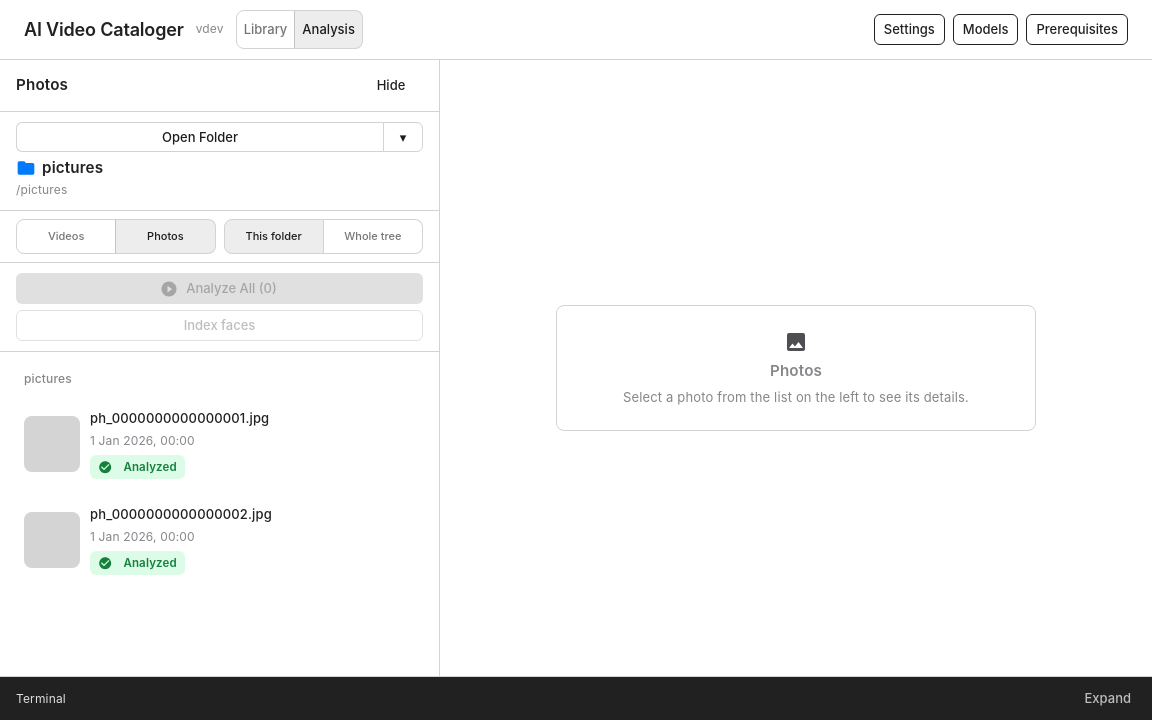
it: selecting a photo from the Analysis photos sidebar › selects the photo in the workspace without opening the full-screen viewer
Click the button with test id "photos-sidebar-row" that starts with "ph_0000000000000001.jpg" at [147, 444], box [24, 410, 269, 479]
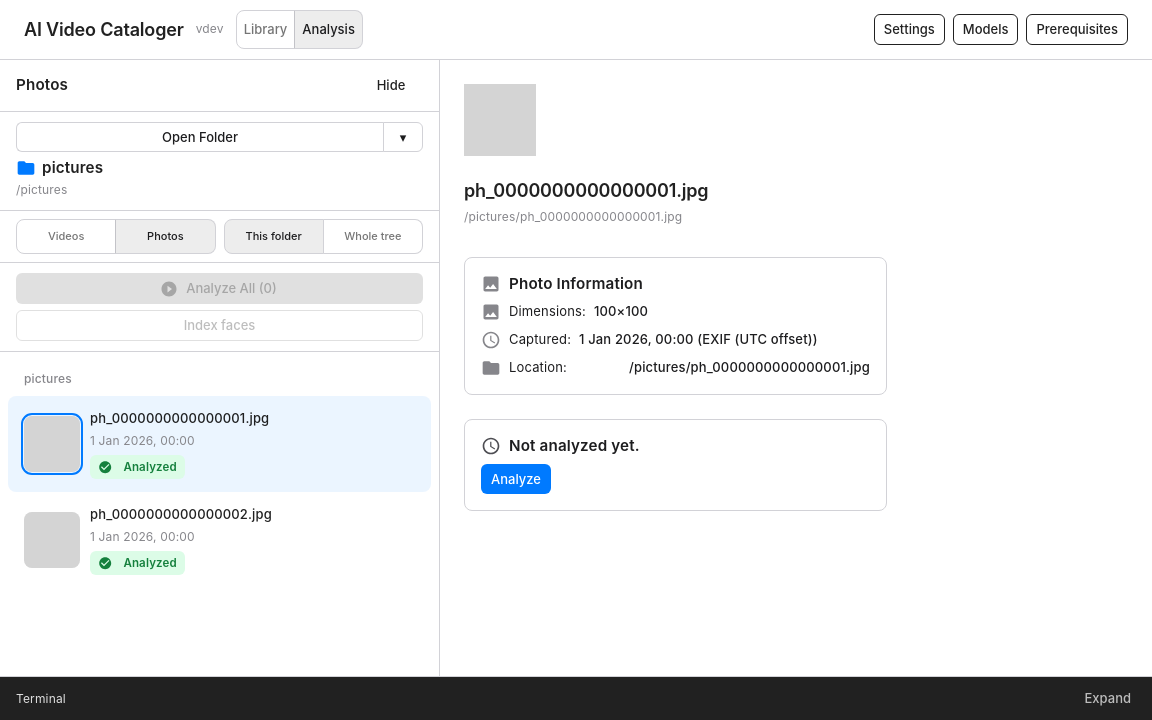
Check: the element with test id "photos-analysis-detail" is shown, box [464, 84, 887, 512]
